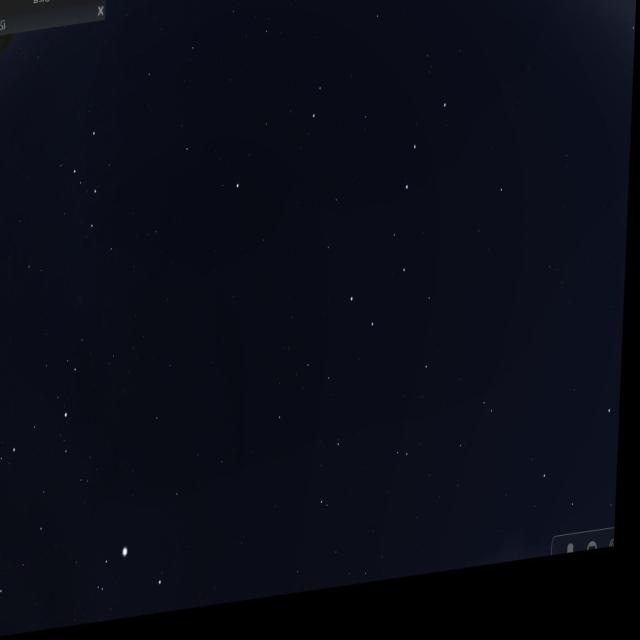cassiopeia: (67, 110, 142, 288)
ursa_major: (344, 101, 453, 356)
